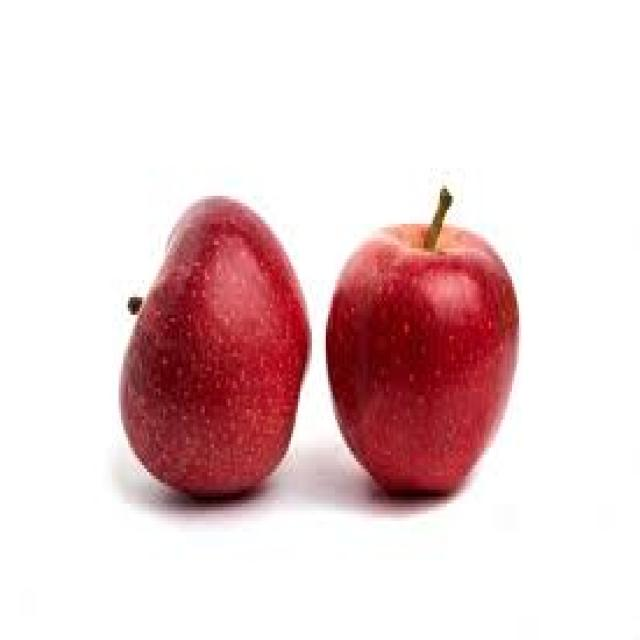apple: (77, 182, 311, 534), (319, 175, 533, 509)
